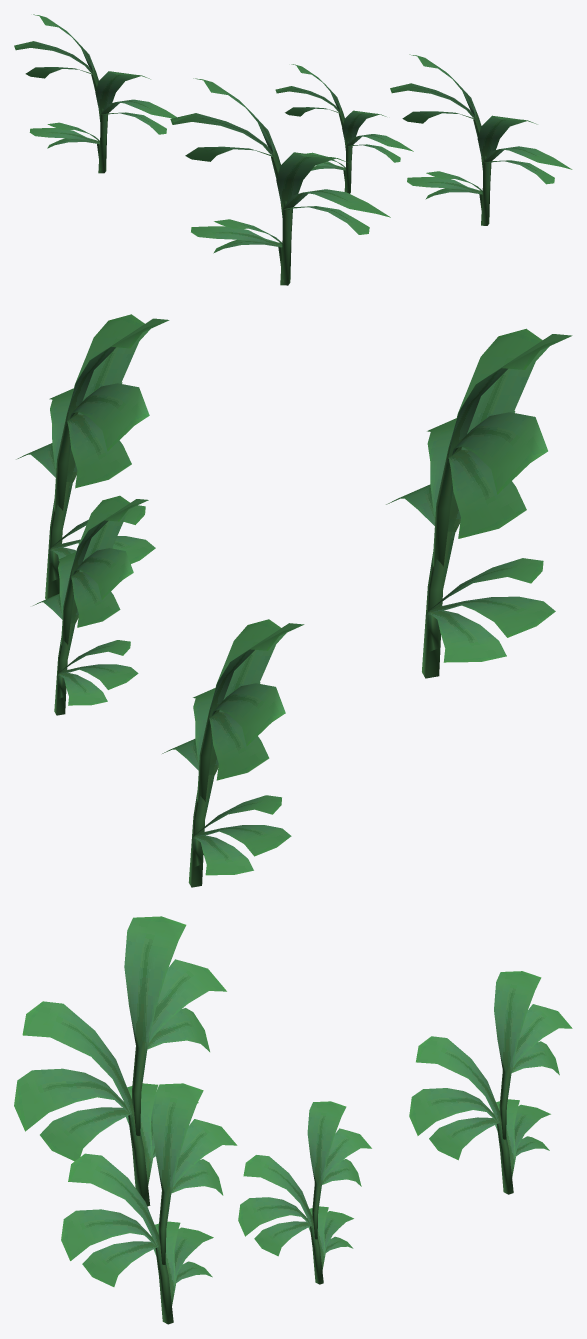
Rendered from FarmFernCluster.fbx.
3 views of the same model, one above another, from view 1: azimuth 30°, elevation 25°; view 2: azimuth 150°, elevation 25°; view 3: azimuth 270°, elevation 25° (orthographic). The views are drawn at different scales.
Visible parts, largest first — view 1: DecoplantsFernCluster (1), DecoplantsFernCluster (3), DecoplantsFernCluster (2), DecoplantsFernCluster; view 2: DecoplantsFernCluster (1), DecoplantsFernCluster (2), DecoplantsFernCluster (3), DecoplantsFernCluster; view 3: DecoplantsFernCluster (1), DecoplantsFernCluster (3), DecoplantsFernCluster (2), DecoplantsFernCluster.
Part boxes in pixels (x1,y1,x2,y2): DecoplantsFernCluster (1): [170, 78, 390, 285]; DecoplantsFernCluster (3): [390, 54, 572, 225]; DecoplantsFernCluster (2): [14, 14, 176, 173]; DecoplantsFernCluster: [275, 64, 413, 193]; DecoplantsFernCluster (1): [386, 328, 572, 678]; DecoplantsFernCluster (2): [162, 619, 304, 887]; DecoplantsFernCluster (3): [16, 314, 169, 599]; DecoplantsFernCluster: [33, 495, 148, 715]; DecoplantsFernCluster (1): [14, 916, 226, 1206]; DecoplantsFernCluster (3): [61, 1083, 237, 1324]; DecoplantsFernCluster (2): [409, 971, 572, 1194]; DecoplantsFernCluster: [238, 1101, 371, 1284].
Bounding box in the file's own units: 1.98 × 1.18 × 2.42.
